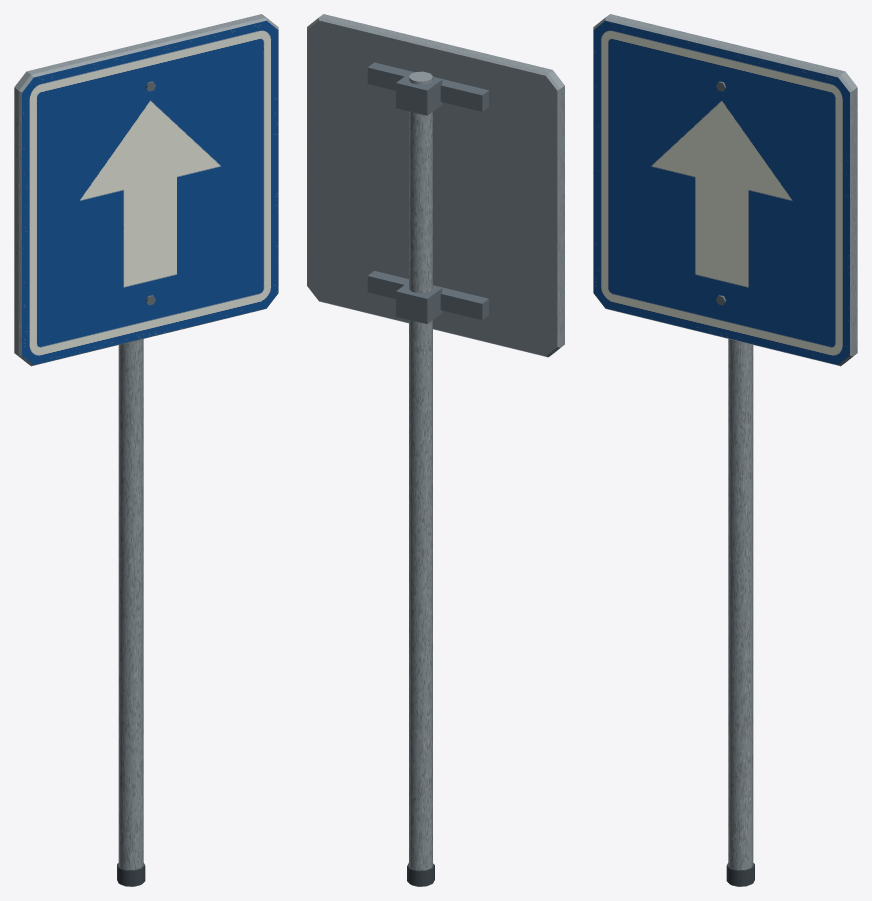
File: route_marker.obj
The picture shows the model from 3 angles, left to right: view 1: azimuth 30°, elevation 25°; view 2: azimuth 150°, elevation 25°; view 3: azimuth 330°, elevation 25°; orthographic projection. The views are drawn at different scales.
Parts seen in each view (by area): view 1: RouteMarker; view 2: RouteMarker; view 3: RouteMarker.
Boxes of the visible parts, left/top/right/bottom form: RouteMarker: left=14, top=14, right=278, bottom=886; RouteMarker: left=307, top=14, right=564, bottom=886; RouteMarker: left=593, top=14, right=857, bottom=886.
Size of the model in its own units: 0.84 by 2.62 by 0.168.
1 material, 1 textured.
